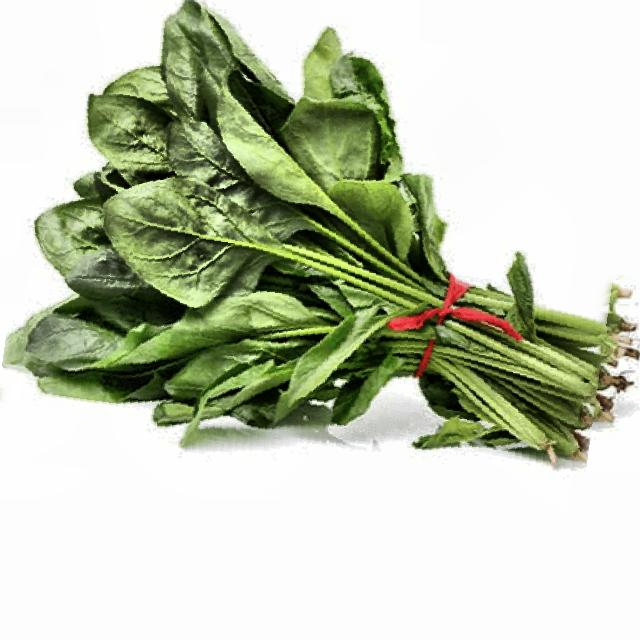spinach: (3, 0, 627, 517)
